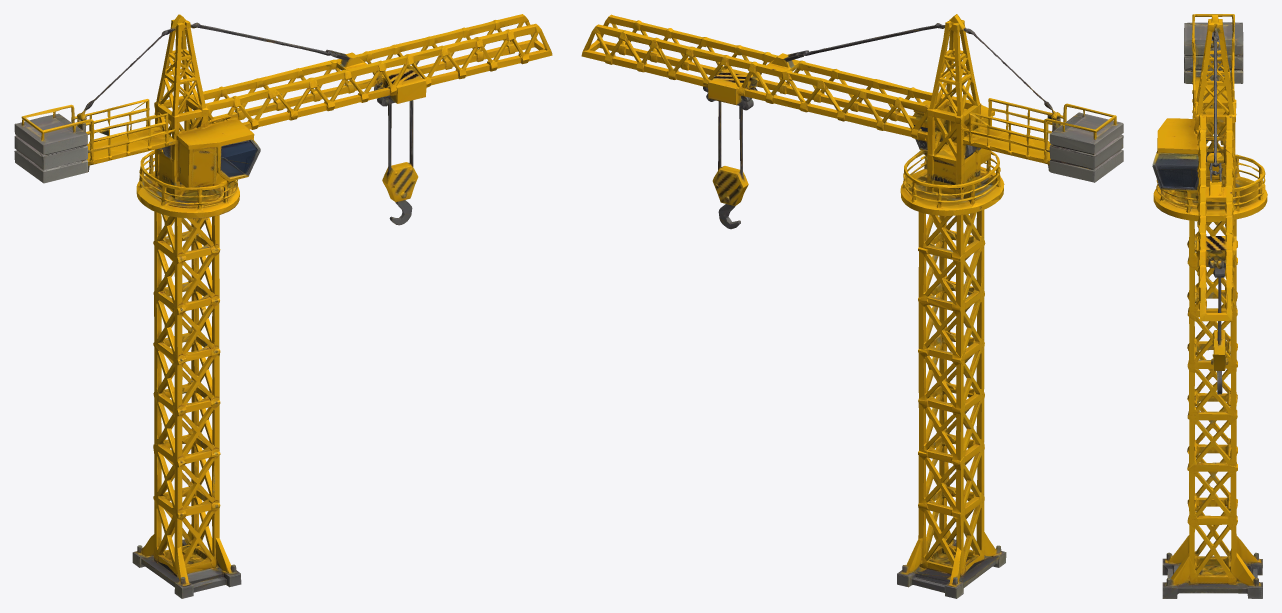
Rendered from baukran.glb.
3 renders of one model, left to right at view 1: azimuth 30°, elevation 25°; view 2: azimuth 150°, elevation 25°; view 3: azimuth 270°, elevation 25°, orthographic.
Parts seen in each view (by area): view 1: Mesh_0; view 2: Mesh_0; view 3: Mesh_0.
Boxes of the visible parts, x1,y1,x2,y2 form: Mesh_0: [14, 14, 552, 598]; Mesh_0: [581, 14, 1123, 598]; Mesh_0: [1152, 14, 1267, 598].
Bounding box in the file's own units: 17.52 × 18.09 × 3.33.
Materials: 1 (1 with a texture image).
